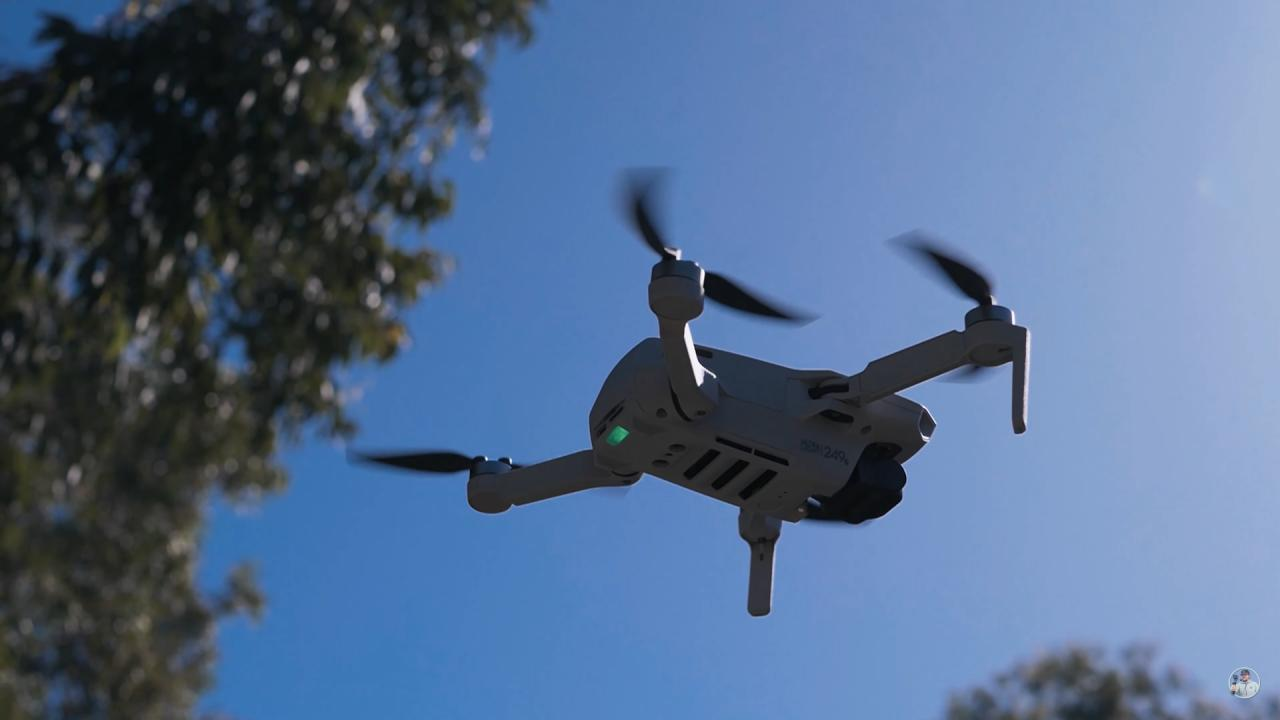Drone: (334, 154, 1045, 624)
